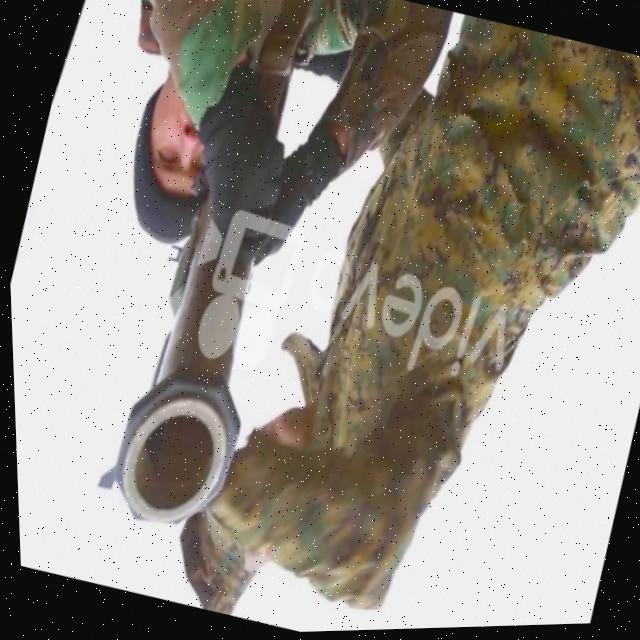rocket: (80, 197, 311, 553)
